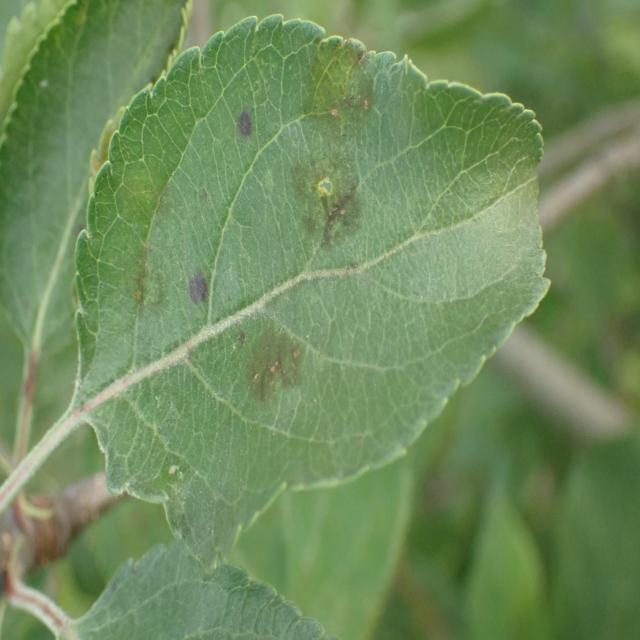scab: (92, 51, 447, 486)
